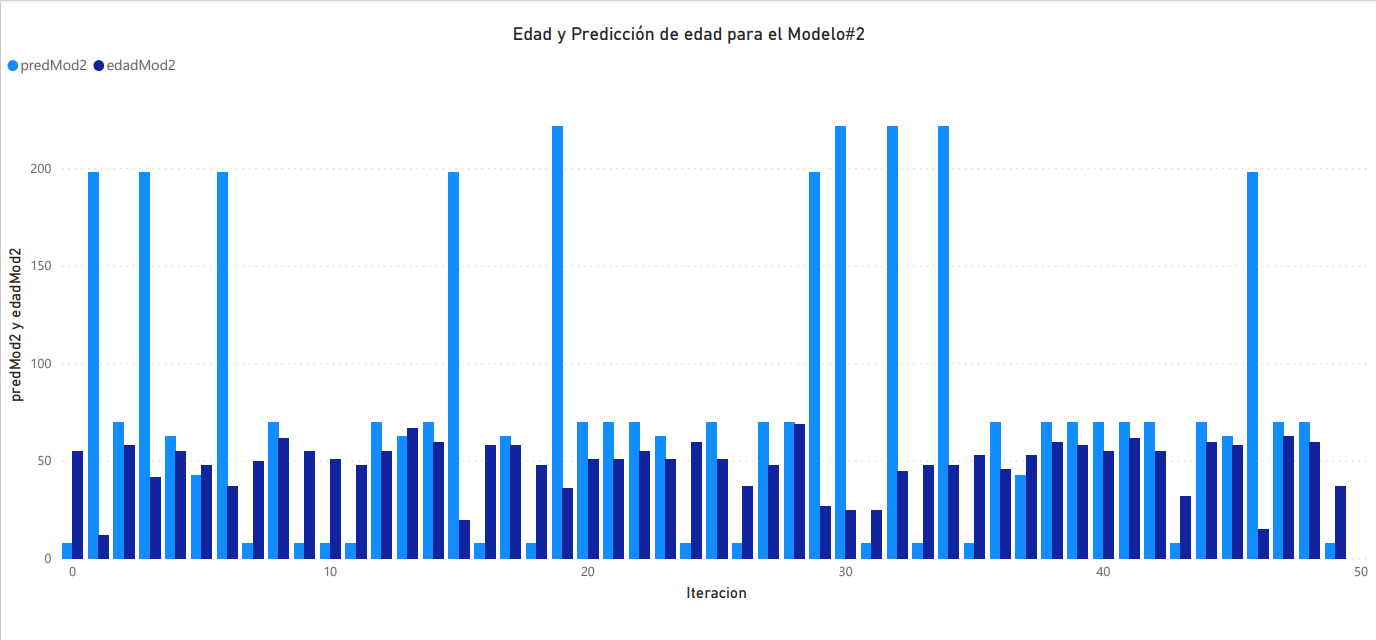

The page's visual inventory and layout, read from the dashboard file:
{"tool":"powerbi","page":{"name":"BarraModel2Full","canvas":[1280,720],"ordinal":2},"visuals":[{"type":"clusteredColumnChart","title":"Edad y Predicción de edad para el Modelo#2","fields":{"Category":["dataModelos (2).Iteracion"],"Y":["Sum(dataModelos (2).predMod2)","Sum(dataModelos (2).edadMod2)"]},"box":[0,0,1280,543.1],"z":0},{"type":"textbox","box":[0,543.1,1280,129.8],"z":1000}]}

Visuals, with their boxes on the page's 1280x720 design canvas (x1, y1, x2, y2). These are canvas units, not pixel positions in the 1376x640 screenshot, which may show the page scaled, cropped or inside an application window:
"Edad y Predicción de edad para el Modelo#2" clusteredColumnChart: x1=0 y1=0 x2=1280 y2=543
textbox: x1=0 y1=543 x2=1280 y2=673
